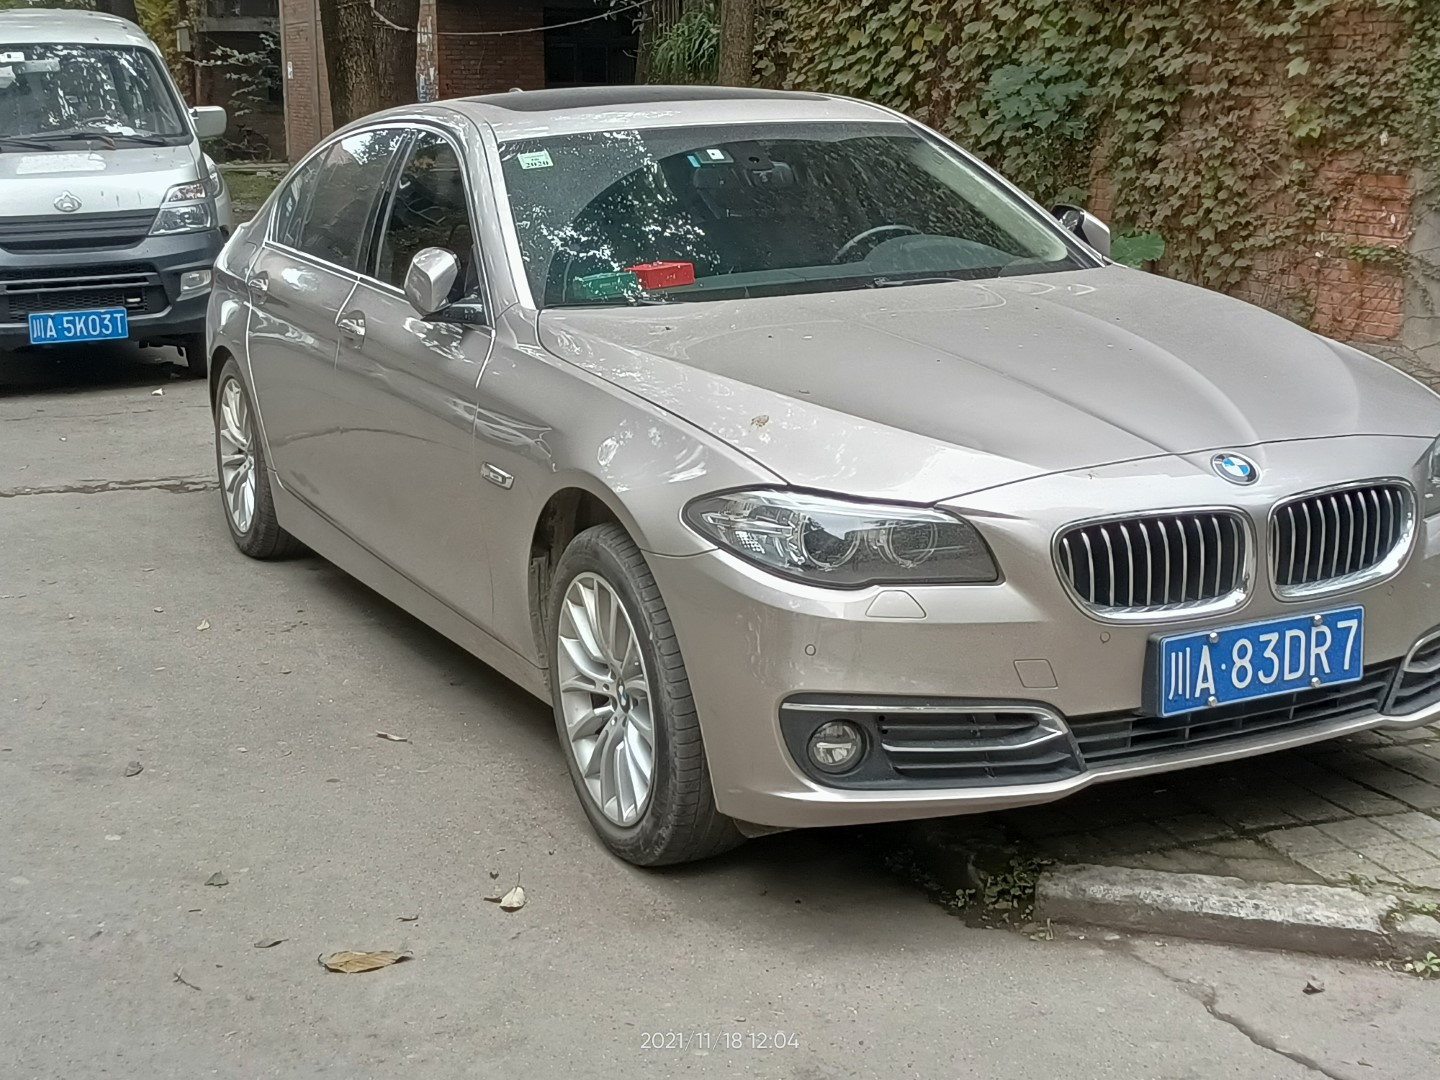plate: (1163, 606, 1359, 715), (27, 307, 130, 346)
